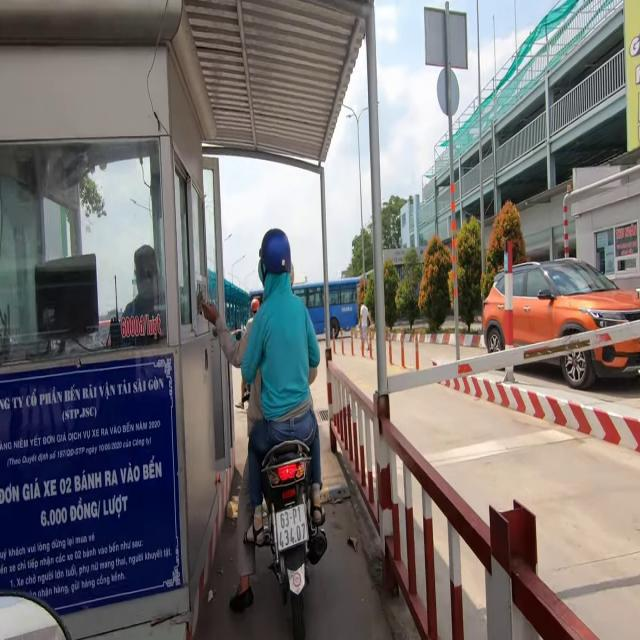bien_trang: (273, 500, 312, 550)
